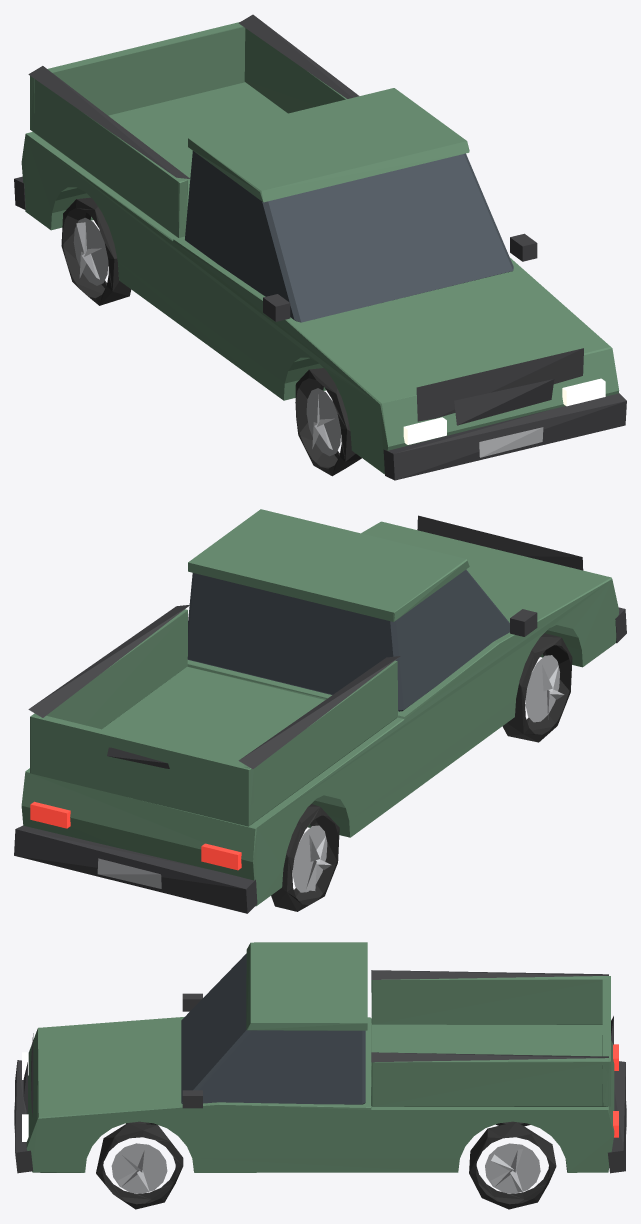
The model's file is pickup-lod1.glb.
The picture shows the model from 3 angles, top to bottom: view 1: azimuth 30°, elevation 25°; view 2: azimuth 150°, elevation 25°; view 3: azimuth 270°, elevation 25°; orthographic projection. The views are drawn at different scales.
Bounding box in the file's own units: 2.14 × 1.78 × 5.42.
